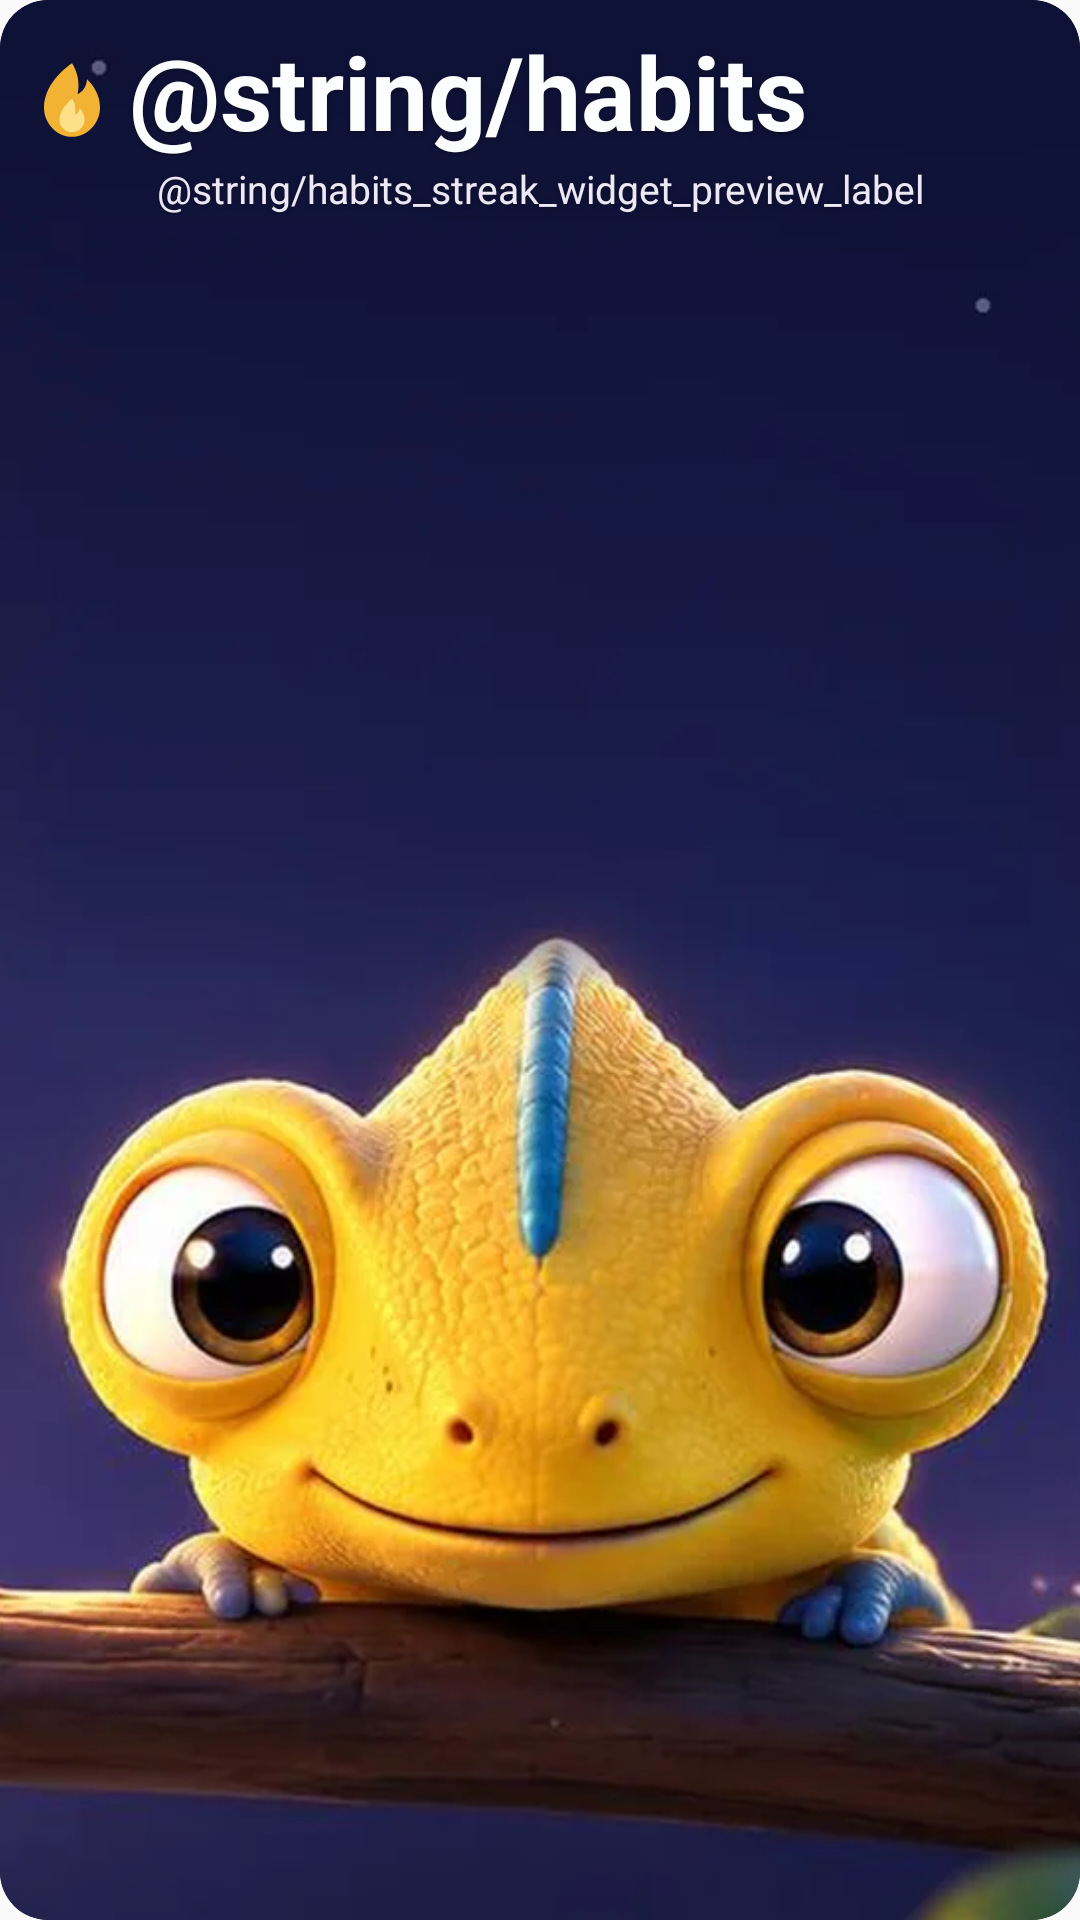

Icons on this 1080w x 1920h Android screen, each with the point to tap as [x,y]:
habits streak widget flame: [75,98]
